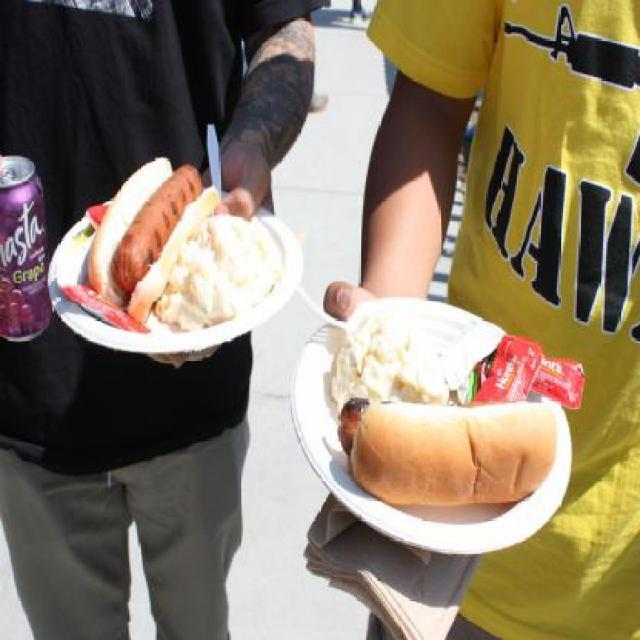Hot dog: (338, 396, 558, 504), (80, 152, 218, 318)
